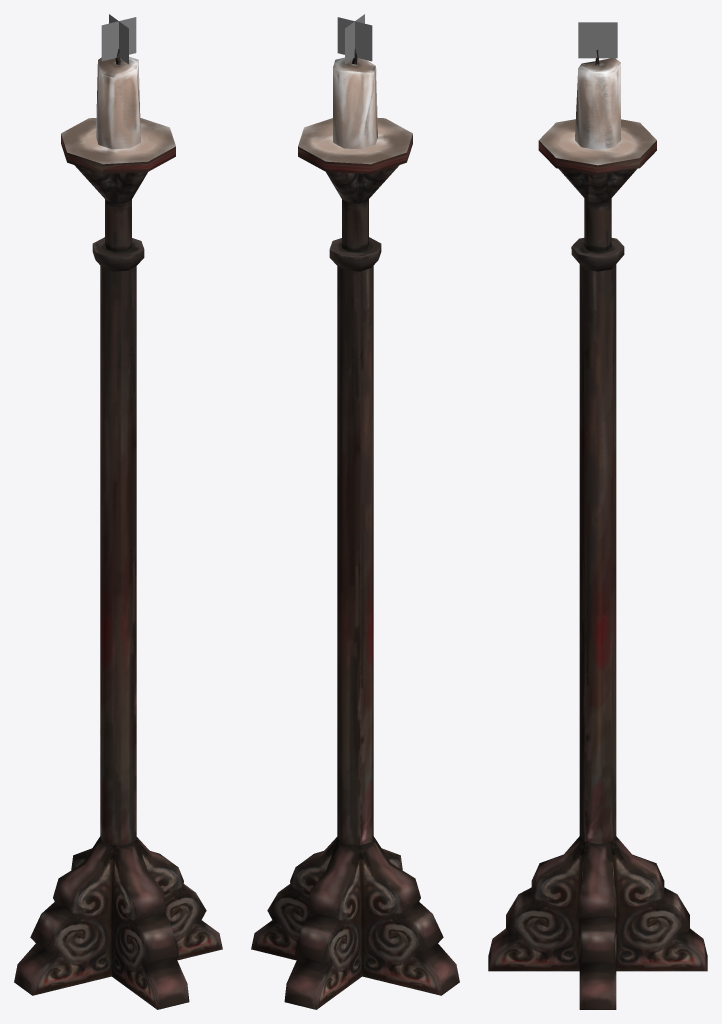
Rendered from PRP_LanternB1.FBX.
The picture shows the model from 3 angles, left to right: view 1: azimuth 30°, elevation 25°; view 2: azimuth 150°, elevation 25°; view 3: azimuth 270°, elevation 25°; orthographic projection.
Parts seen in each view (by area): view 1: PRP_LanternB1; view 2: PRP_LanternB1; view 3: PRP_LanternB1.
Boxes of the visible parts, bbox=[...] form: PRP_LanternB1: bbox=[14, 14, 222, 1009]; PRP_LanternB1: bbox=[251, 14, 459, 1009]; PRP_LanternB1: bbox=[488, 22, 707, 1009].
Bounding box in the file's own units: 47.14 × 223 × 47.14.
Materials: 2 (1 with a texture image).
